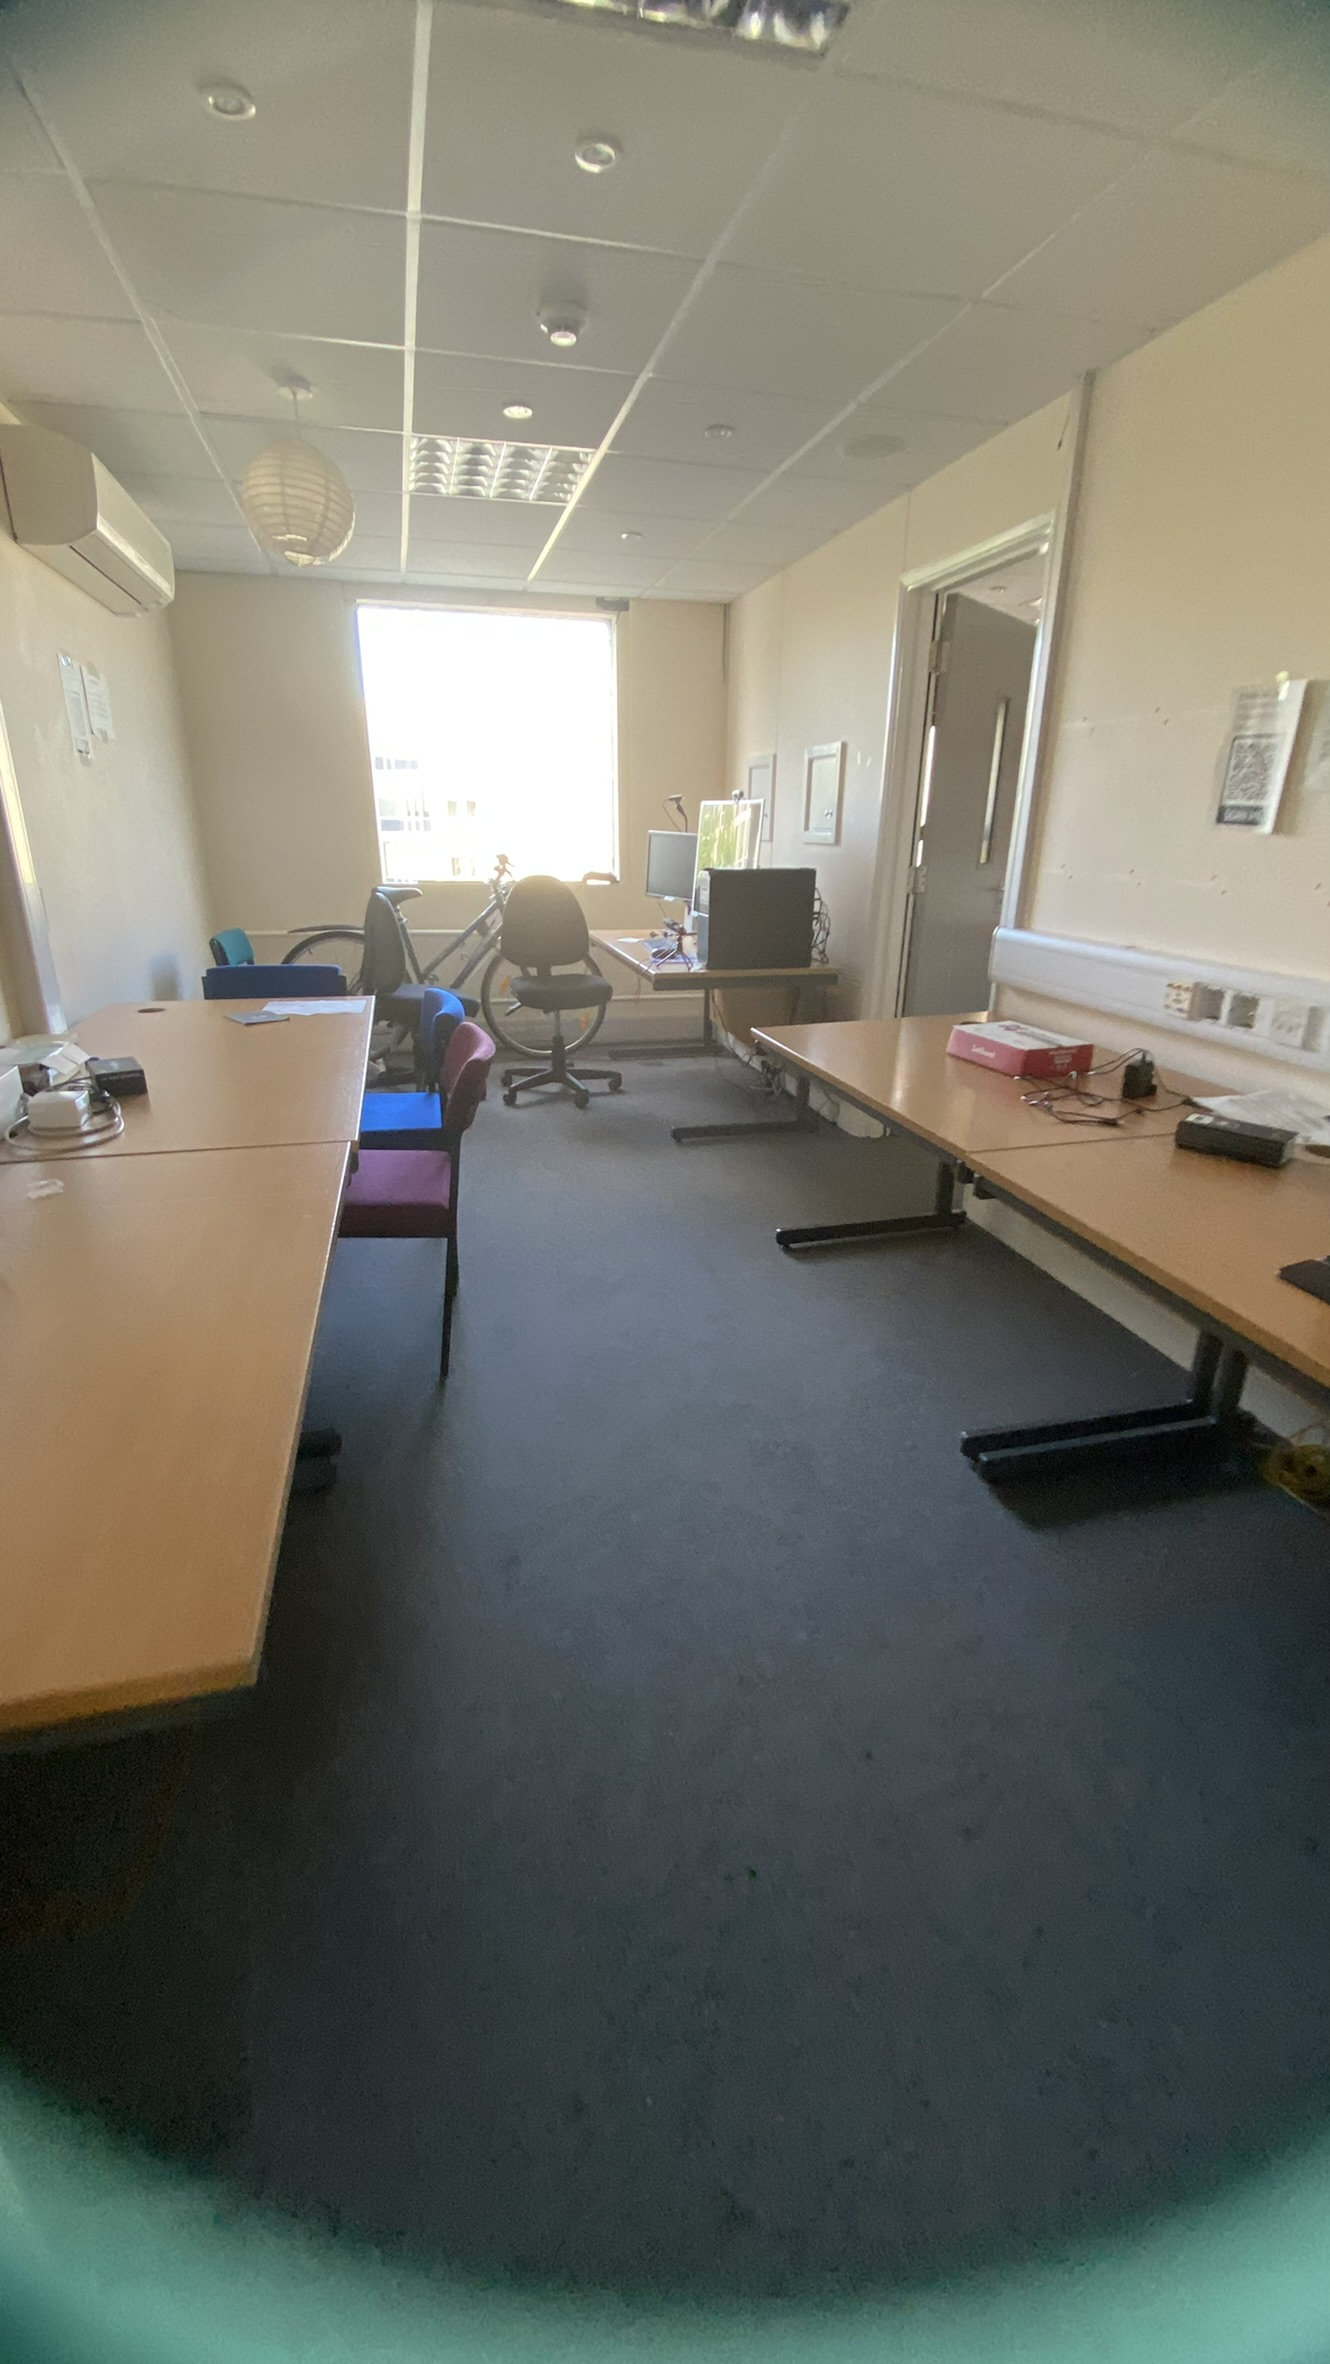chair: (356, 1021, 520, 1404), (466, 851, 666, 1138)
table: (36, 930, 411, 1918), (788, 1036, 1195, 1596)
